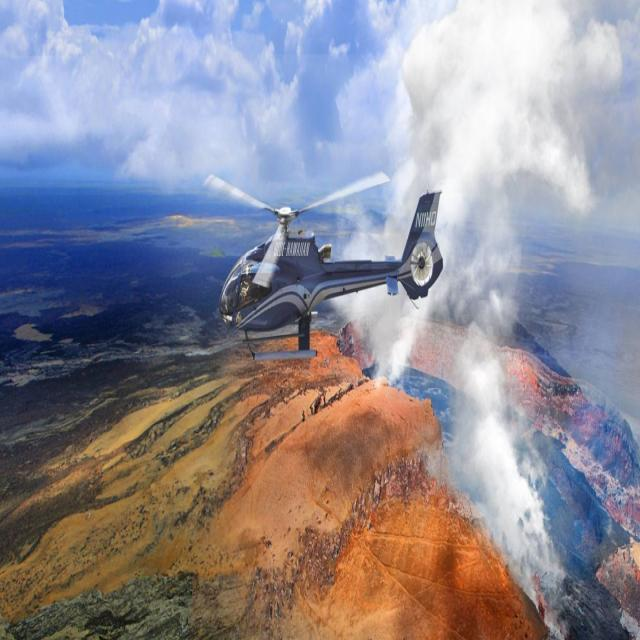helicopter: (207, 163, 450, 376)
